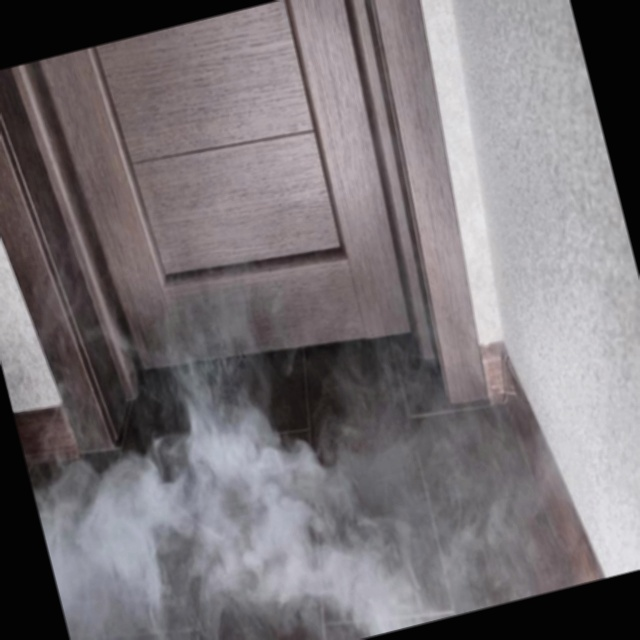smoke: (22, 381, 355, 640)
